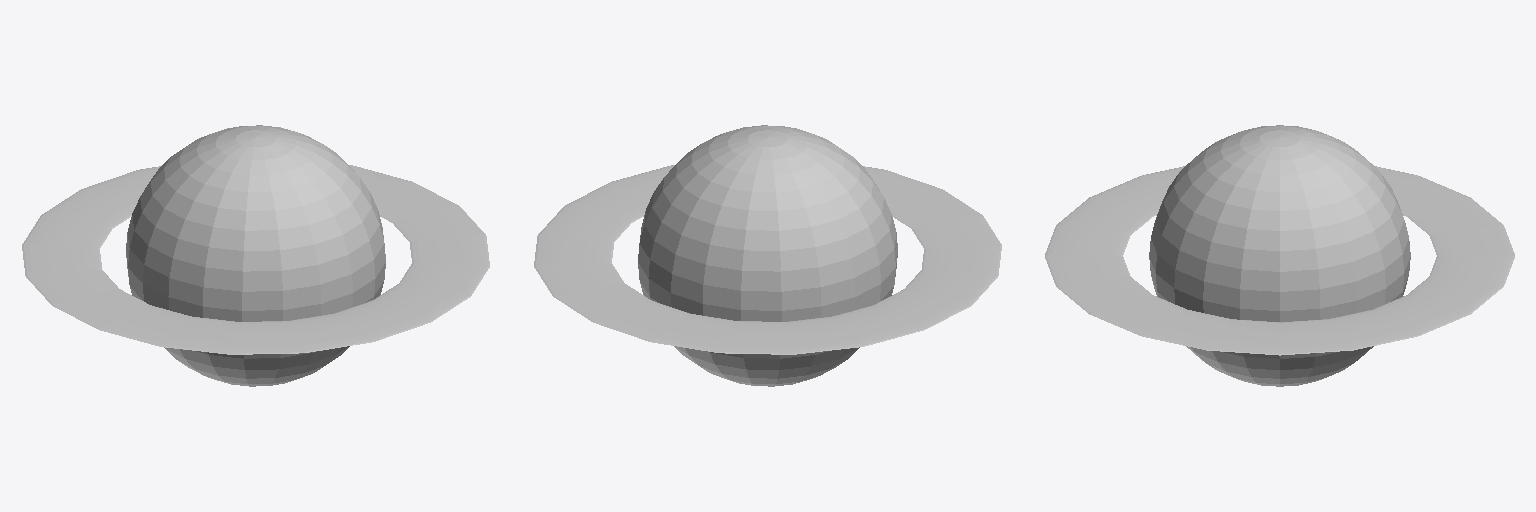
File: Planet_1.obj
The picture shows the model from 3 angles: view 1: azimuth 30°, elevation 25°; view 2: azimuth 150°, elevation 25°; view 3: azimuth 270°, elevation 25°; orthographic projection.
Parts seen in each view (by area): view 1: pSphere1, pTorus1; view 2: pSphere1, pTorus1; view 3: pSphere1, pTorus1.
Boxes of the visible parts, box(x1,y1,x2,y2) form: pSphere1: box(126, 125, 385, 386); pTorus1: box(22, 165, 489, 354); pSphere1: box(638, 125, 897, 386); pTorus1: box(534, 165, 1001, 354); pSphere1: box(1149, 125, 1410, 386); pTorus1: box(1045, 166, 1514, 355).
Bounding box in the file's own units: 7.2 × 4 × 7.2.